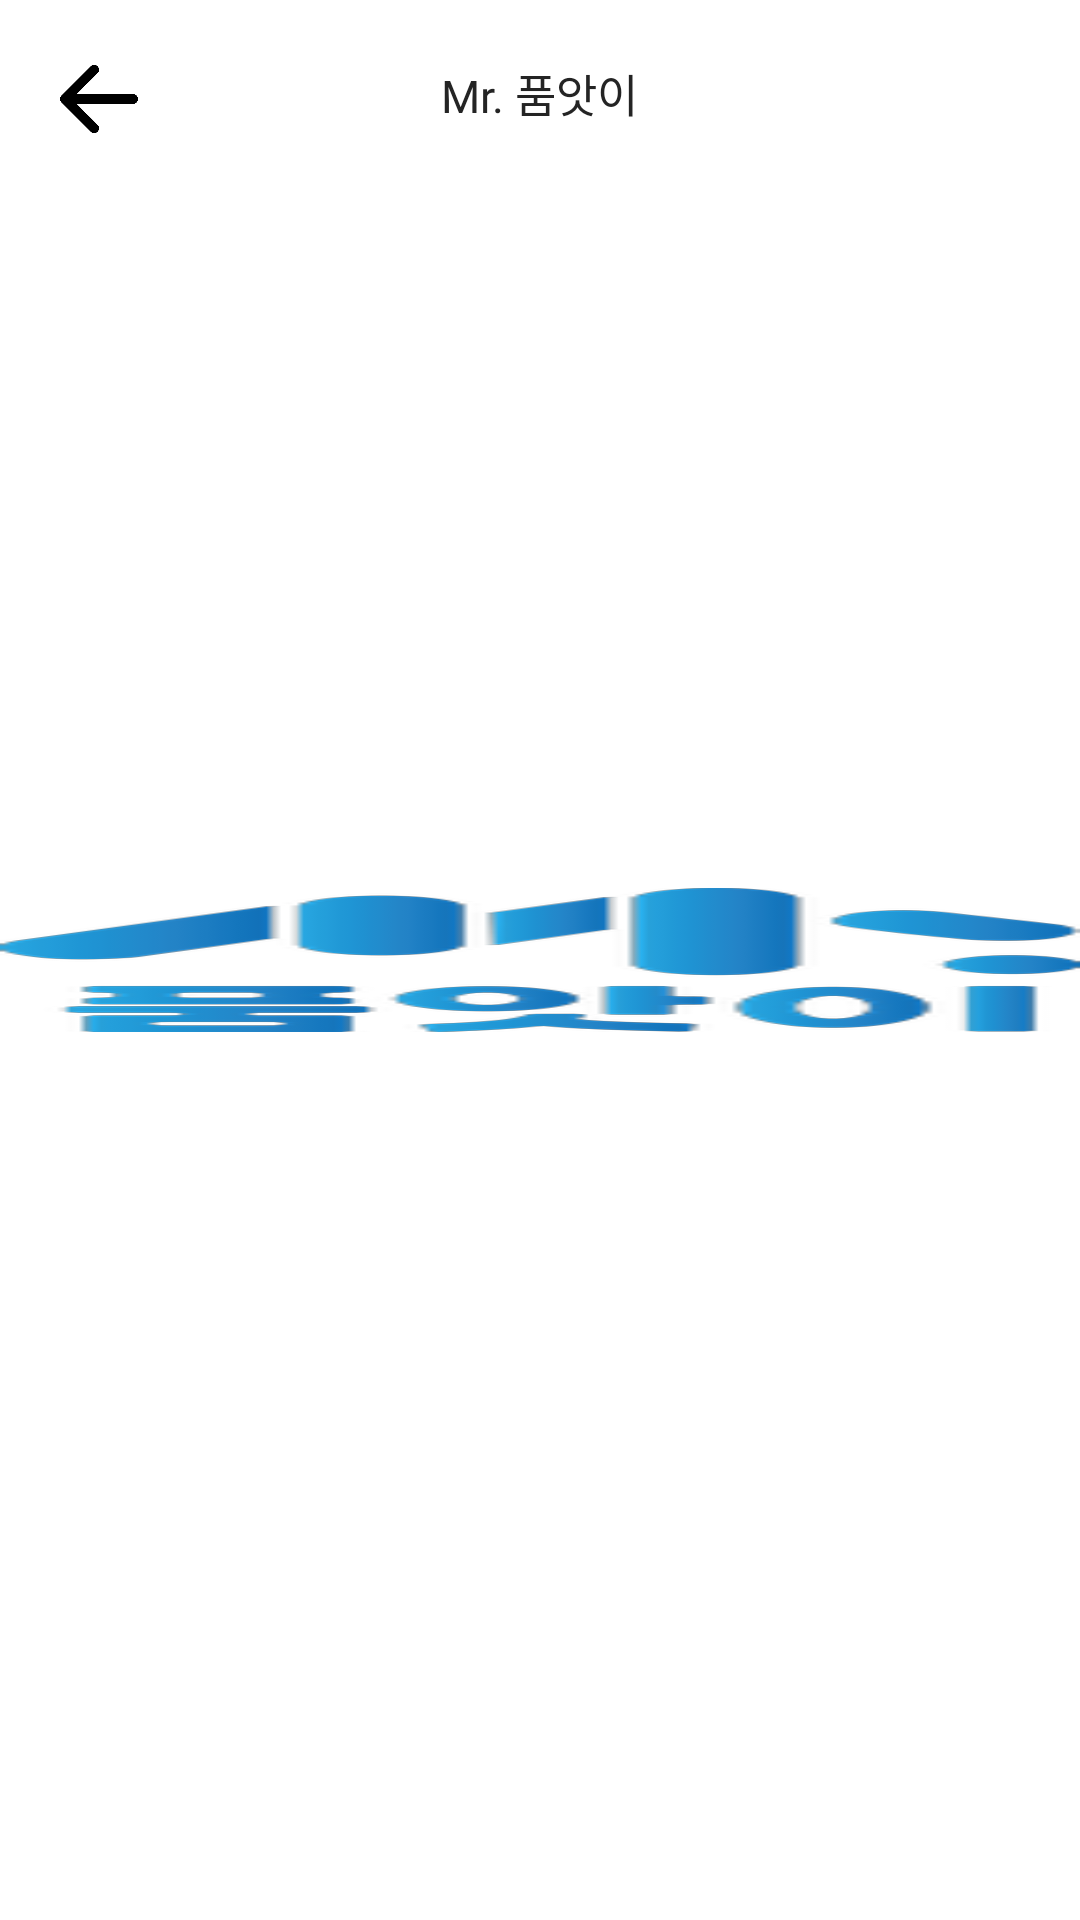

Icons on this 1080×1920 Android screen, each with its box as (x1, y1, x2, y2):
back: (60, 65, 138, 133)
